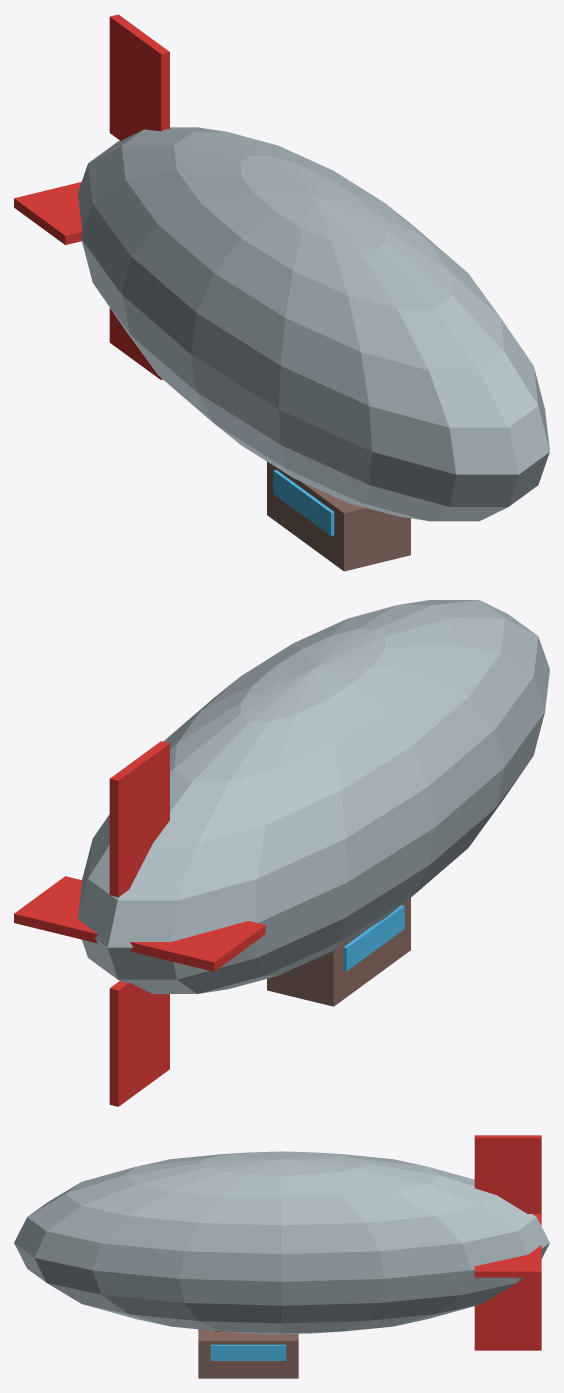
File: zeppelinare.glb
3 views of the same model, one above another, from view 1: azimuth 30°, elevation 25°; view 2: azimuth 150°, elevation 25°; view 3: azimuth 270°, elevation 25° (orthographic). The views are drawn at different scales.
Visible parts, largest first — view 1: zeppelinare; view 2: zeppelinare; view 3: zeppelinare.
Boxes of the visible parts, bbox=[...] form: zeppelinare: bbox=[14, 14, 549, 571]; zeppelinare: bbox=[14, 600, 549, 1106]; zeppelinare: bbox=[14, 1135, 549, 1378].
Size of the model in its own units: 1.1 by 1.53 by 3.2.
